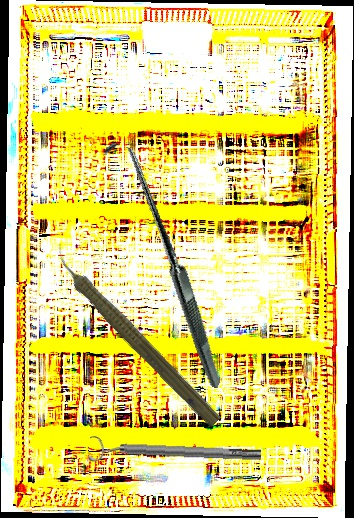Fixation Ring: (88, 433, 262, 471)
Handpiece: (42, 240, 229, 431)
Hook Surgical: (41, 140, 285, 389)
